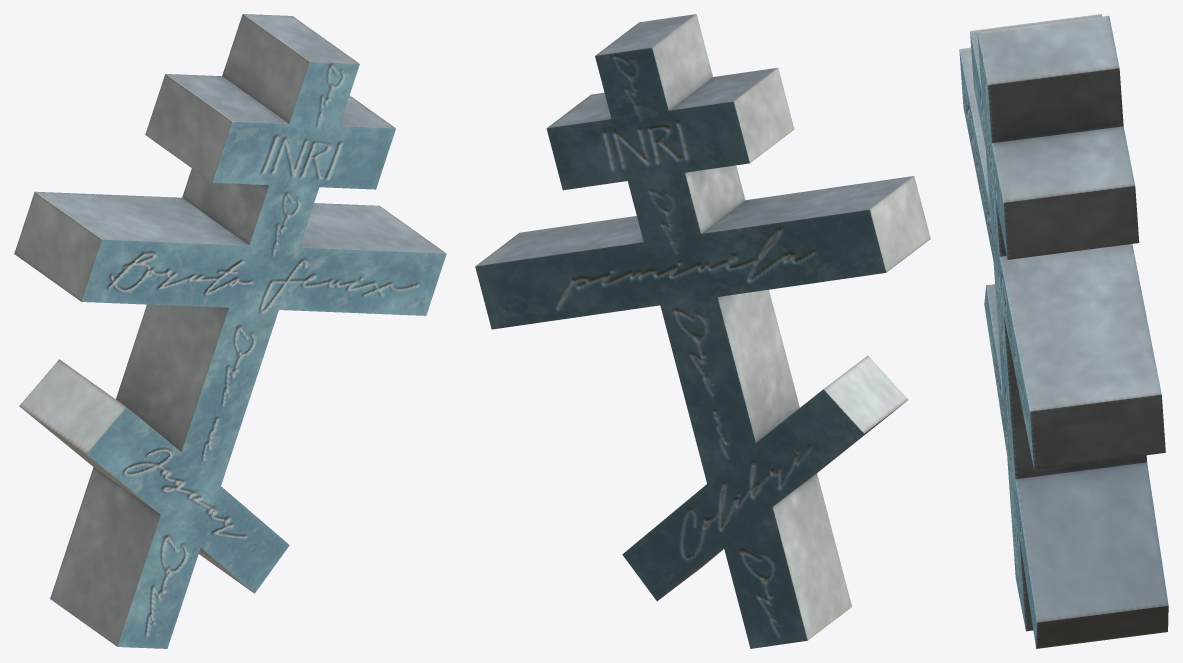
3 renders of one model, left to right at view 1: azimuth 30°, elevation 25°; view 2: azimuth 150°, elevation 25°; view 3: azimuth 270°, elevation 25°, orthographic. The views are drawn at different scales.
Visible parts, largest first — view 1: Cruz_Orto_Cube.011; view 2: Cruz_Orto_Cube.011; view 3: Cruz_Orto_Cube.011.
Part boxes in pixels (bbox=[...]): Cruz_Orto_Cube.011: bbox=[14, 14, 446, 648]; Cruz_Orto_Cube.011: bbox=[475, 14, 930, 648]; Cruz_Orto_Cube.011: bbox=[959, 14, 1168, 648].
Bounding box in the file's own units: 1.96 × 2.69 × 0.7529.
